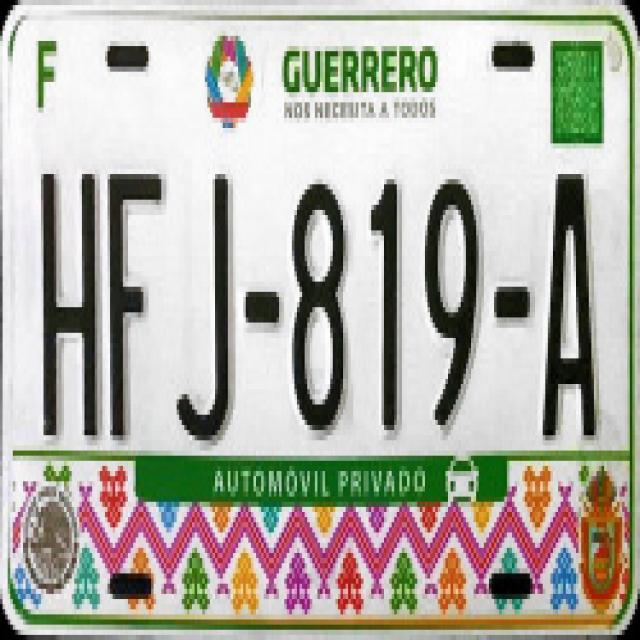placa: (6, 142, 631, 456)
